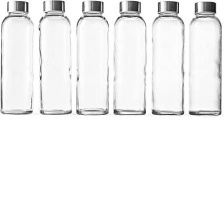bottle: (72, 0, 112, 120), (148, 0, 187, 121), (111, 0, 150, 119), (185, 0, 223, 118), (36, 0, 74, 117), (0, 0, 36, 115)
